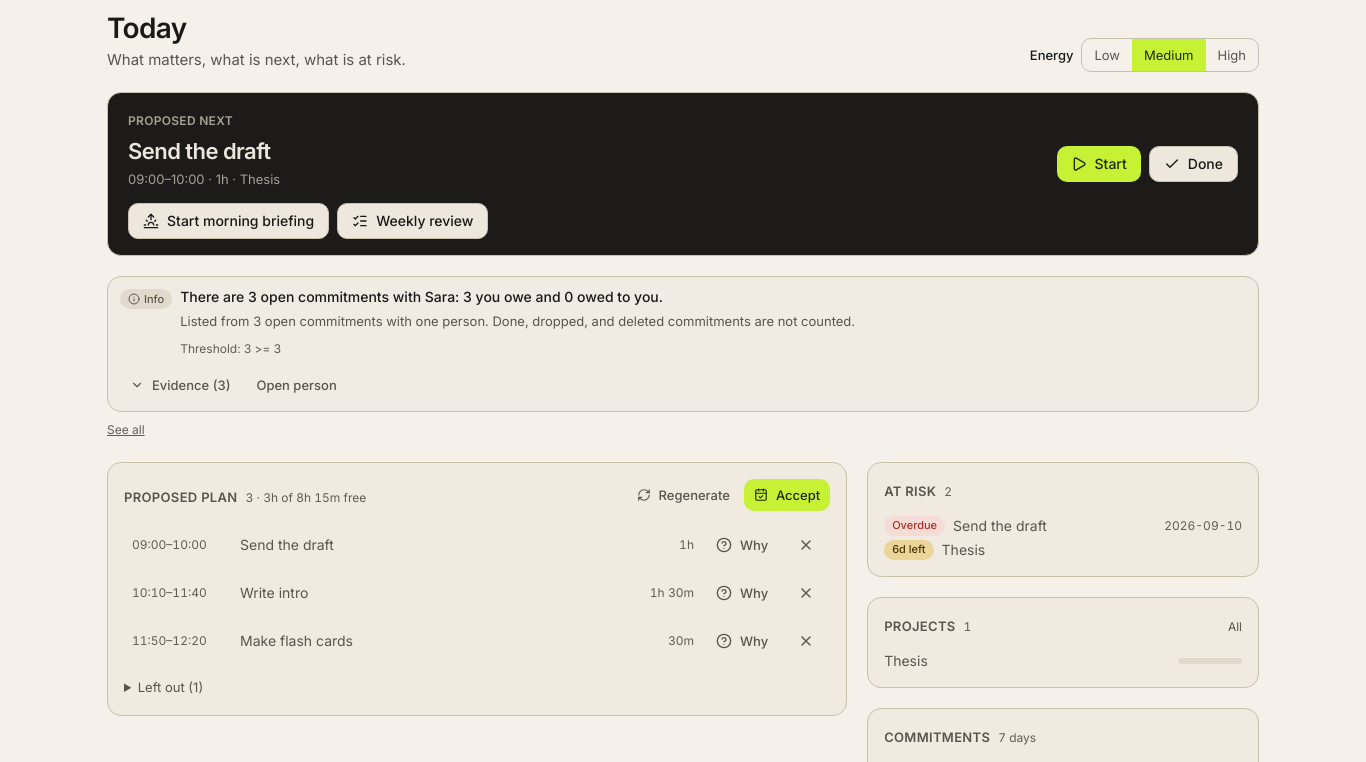
TodayPage › shows at-risk items, and the insight strip from the shared engine with its evidence
The width and height of the screenshot is (1366, 762).
Expected: the text "Overdue" is shown, [884,516,945,536]
Expected: the text "Send the draft" next to "Overdue" is shown, [953,517,1047,534]
Click the button "Evidence (3)" at (180, 385), box [120,369,240,401]
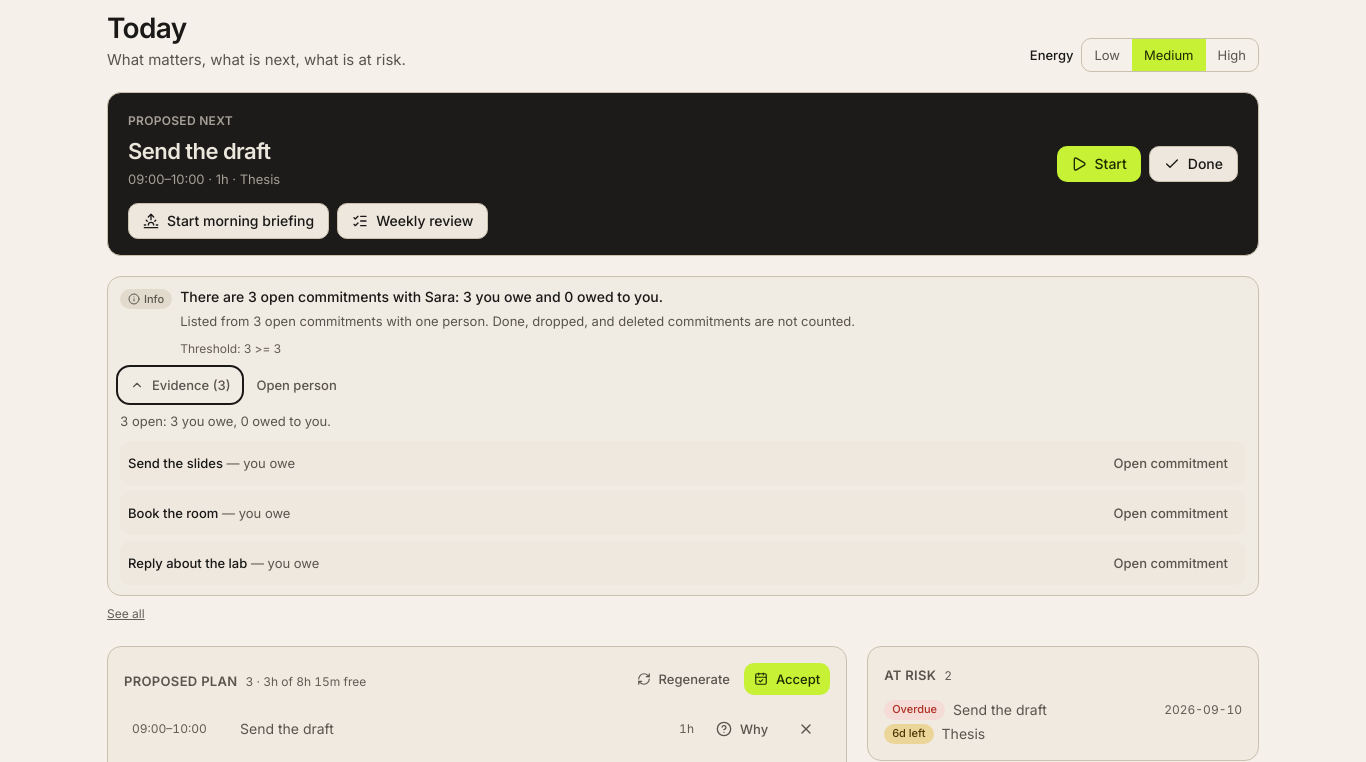
Result: the list named "Evidence, 3 rows" shows "Send the slides — you owe" at [120,441,1246,585]
